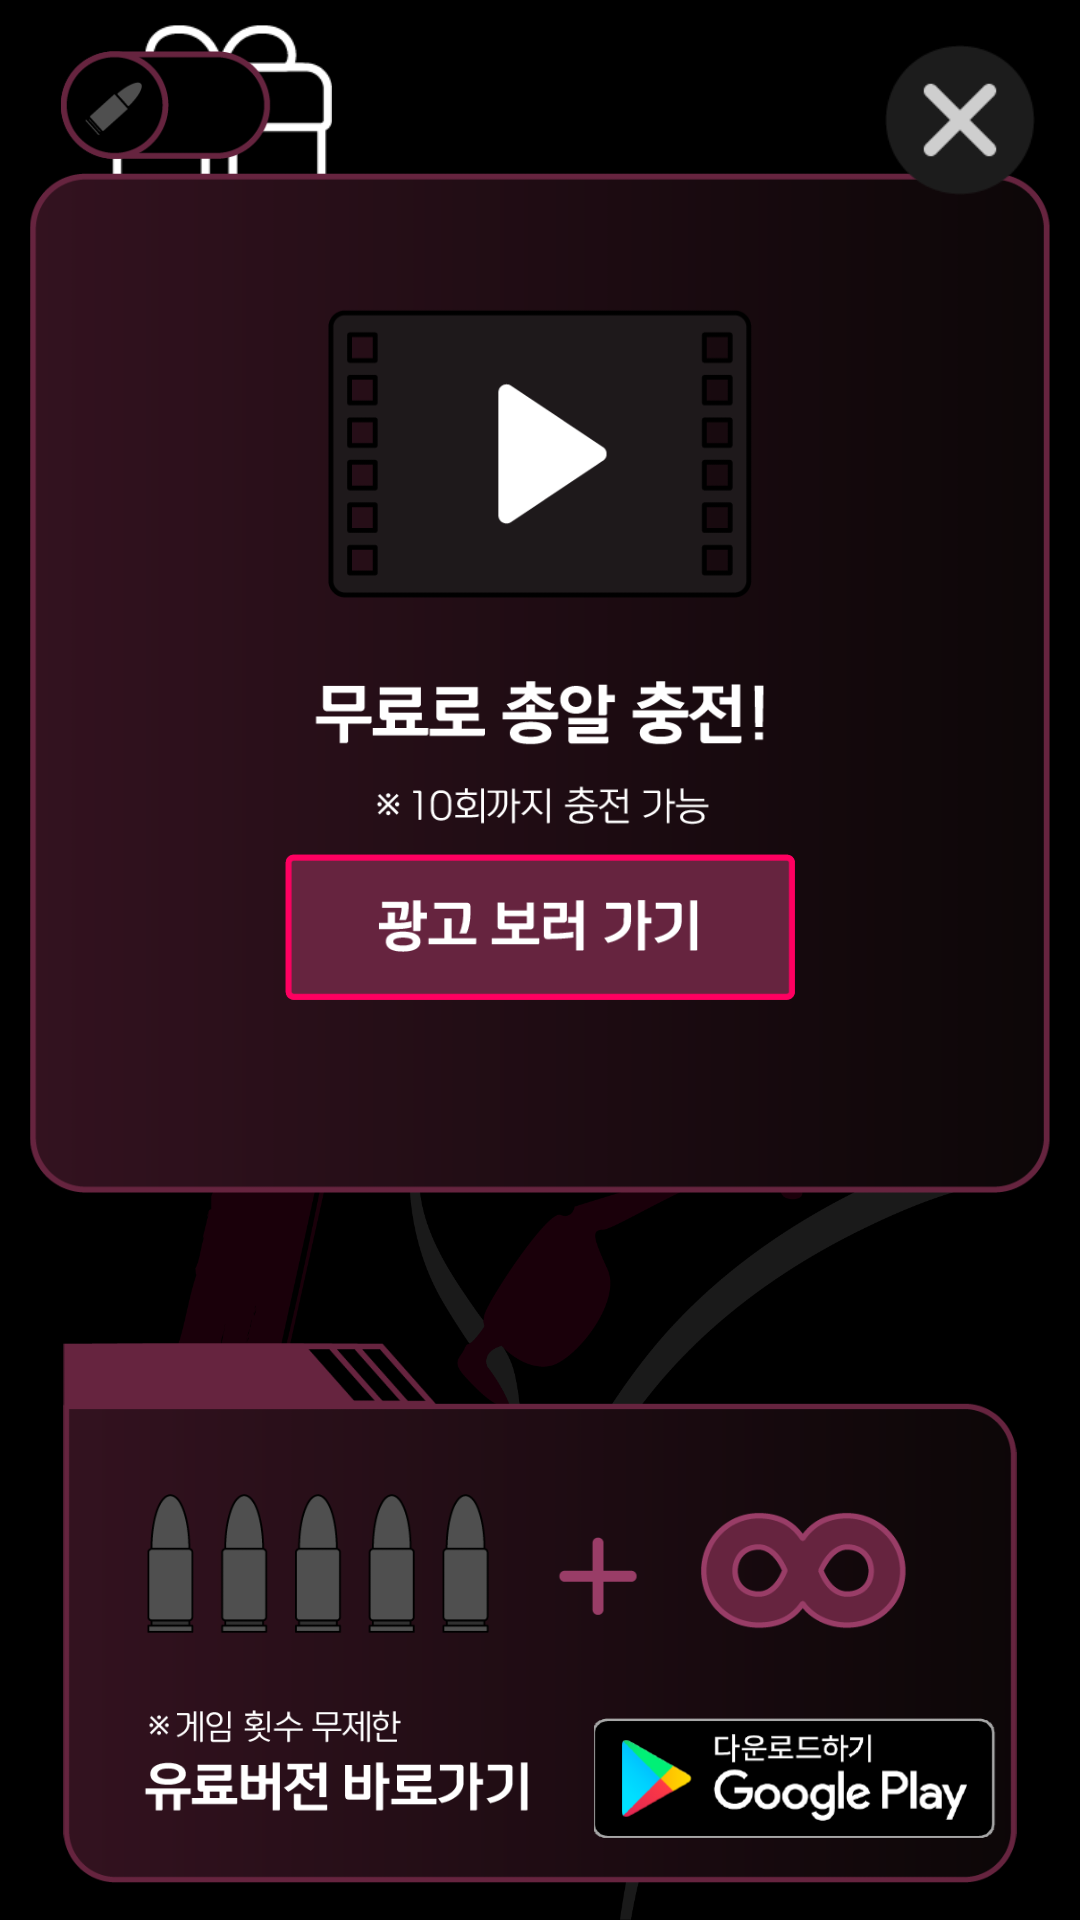

Point at icon controls on the screen. Image size 1080px x 1920px, points as (x=x, y=y).
closebt: (x=960, y=121)
